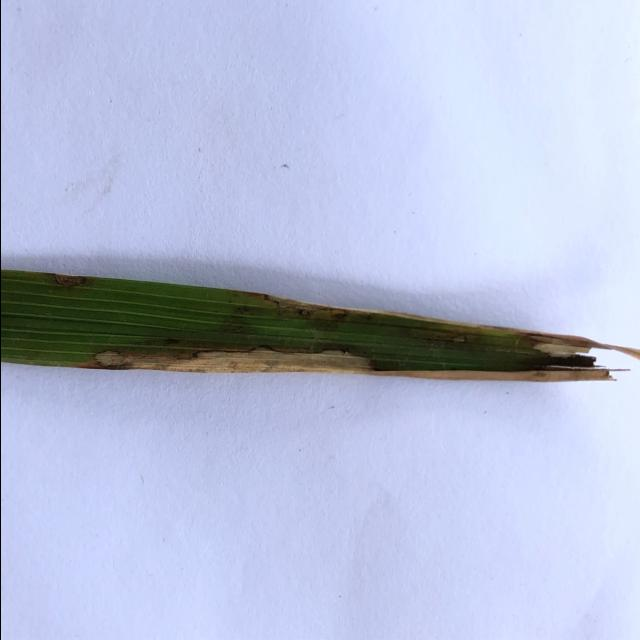Leaf Blight: (264, 296, 640, 362), (88, 345, 610, 380), (49, 273, 87, 287)
